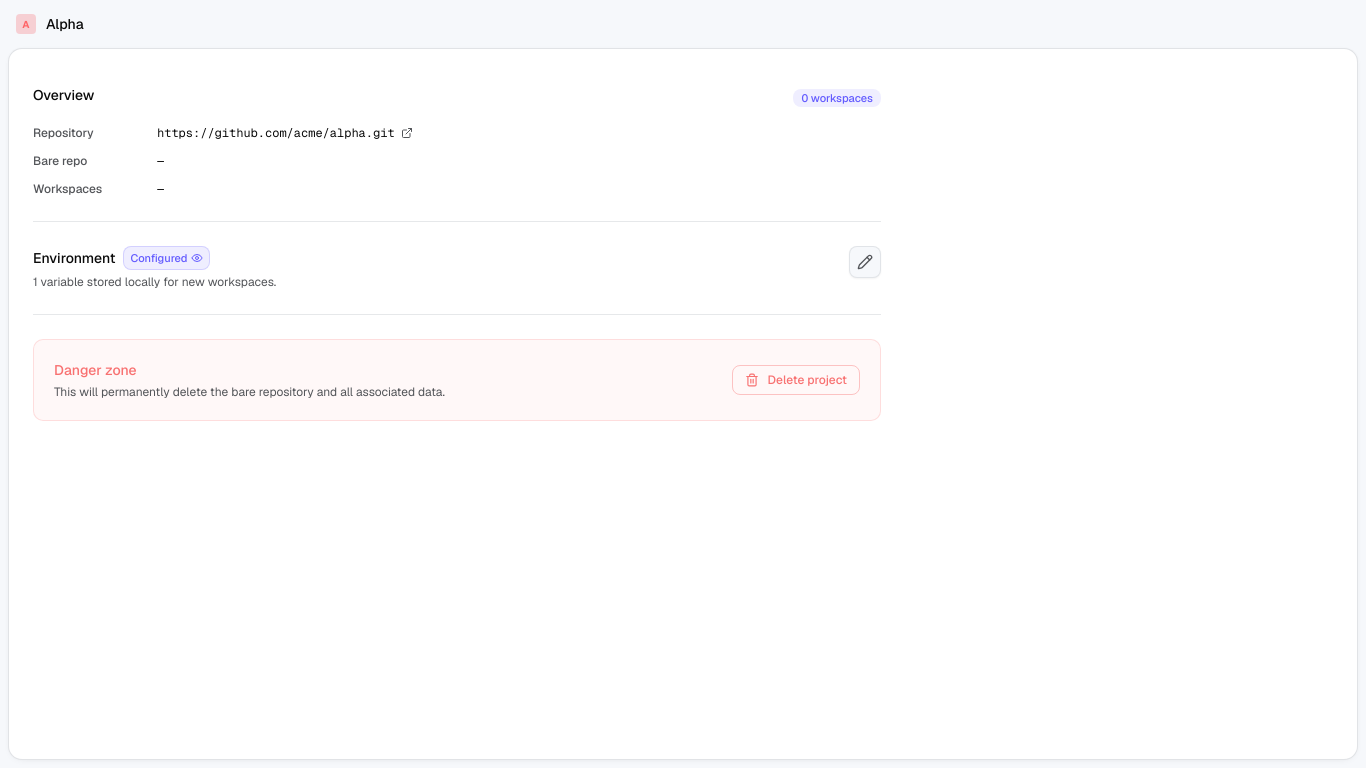
Test: ProjectDetail › does not expose a delete action for configured project environment
The image size is (1366, 768).
Expected: the text "1 variable stored locally for new workspaces." is shown, left=33, top=274, right=276, bottom=290
Click the button named "Edit environment" at (865, 262), box left=849, top=246, right=881, bottom=278
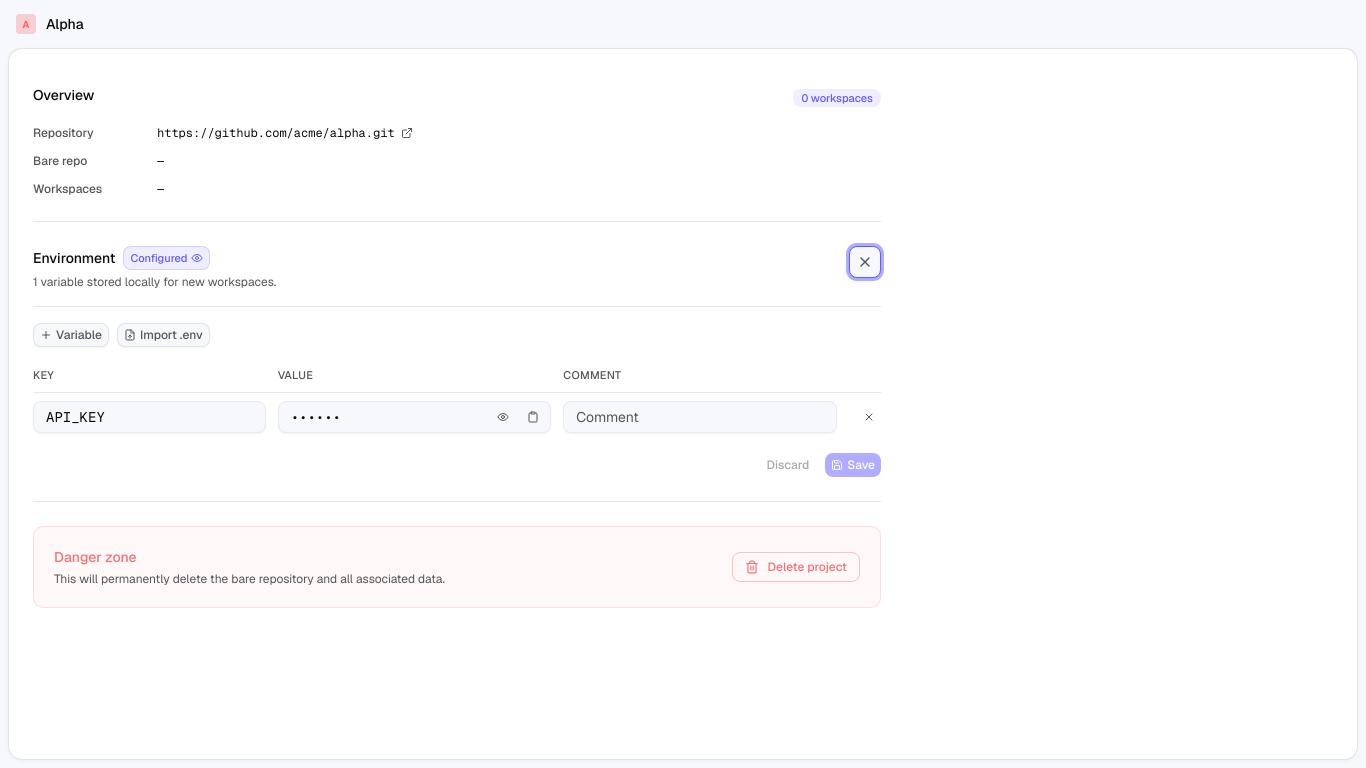
Expected: the field showing "API_KEY" is shown, left=33, top=400, right=266, bottom=432
